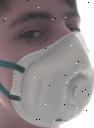with_mask: (2, 1, 94, 128)
